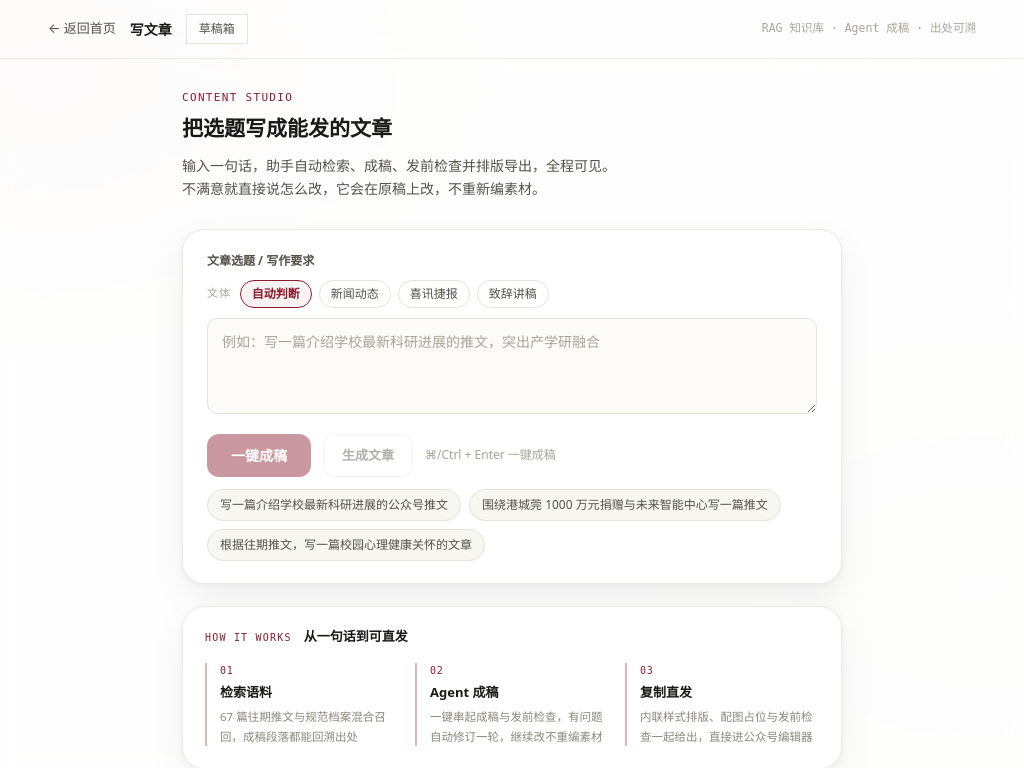
Scenario: 写文章页 › 接口失败时显示错误，不伪造草稿
In the text box named "文章选题输入框": (512, 366) top-left (207, 318), bottom-right (817, 414), type "写一篇科研进展推文"
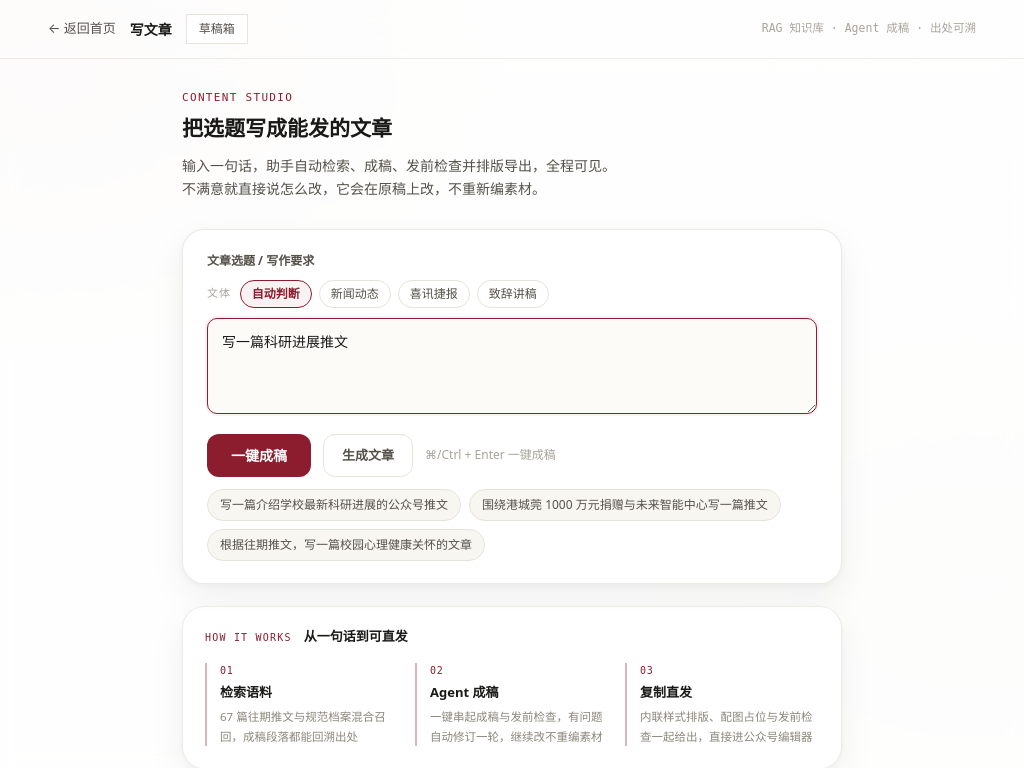
Click the button "生成文章": (368, 455) top-left (323, 434), bottom-right (413, 477)
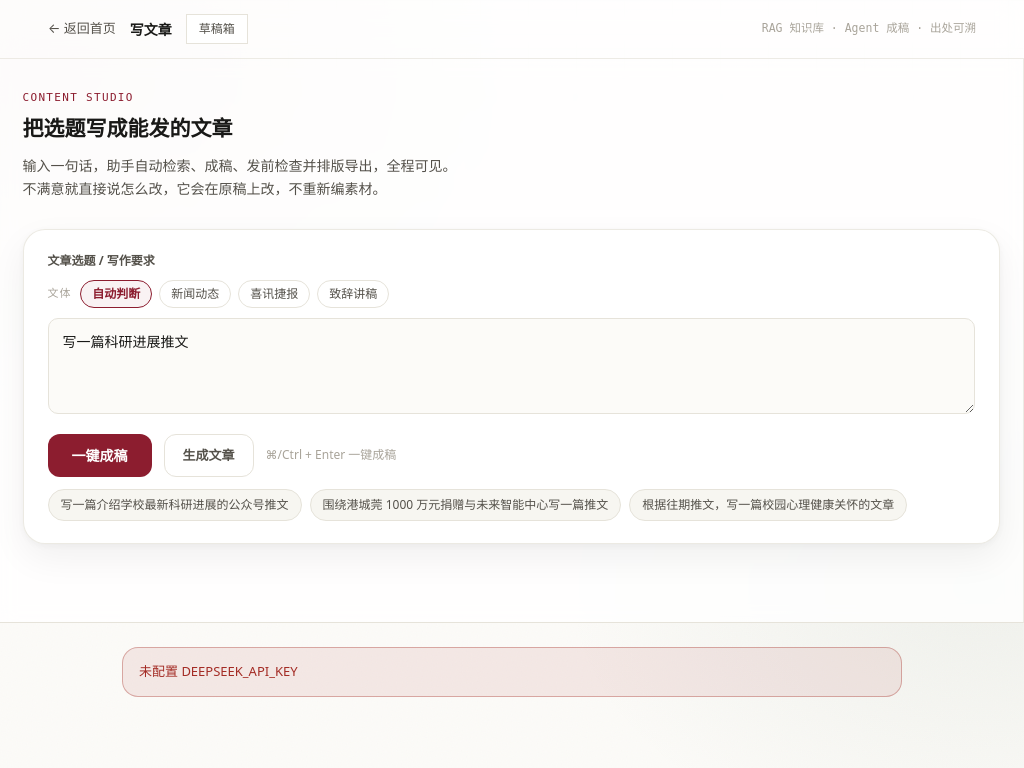
expect the message reads "未配置 DEEPSEEK_API_KEY": met, box top-left (139, 662), bottom-right (298, 680)
